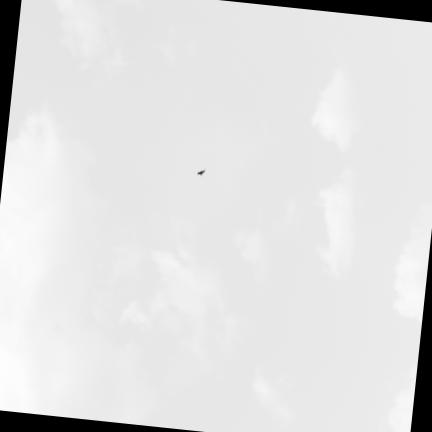Shahed: (196, 167, 206, 176)
